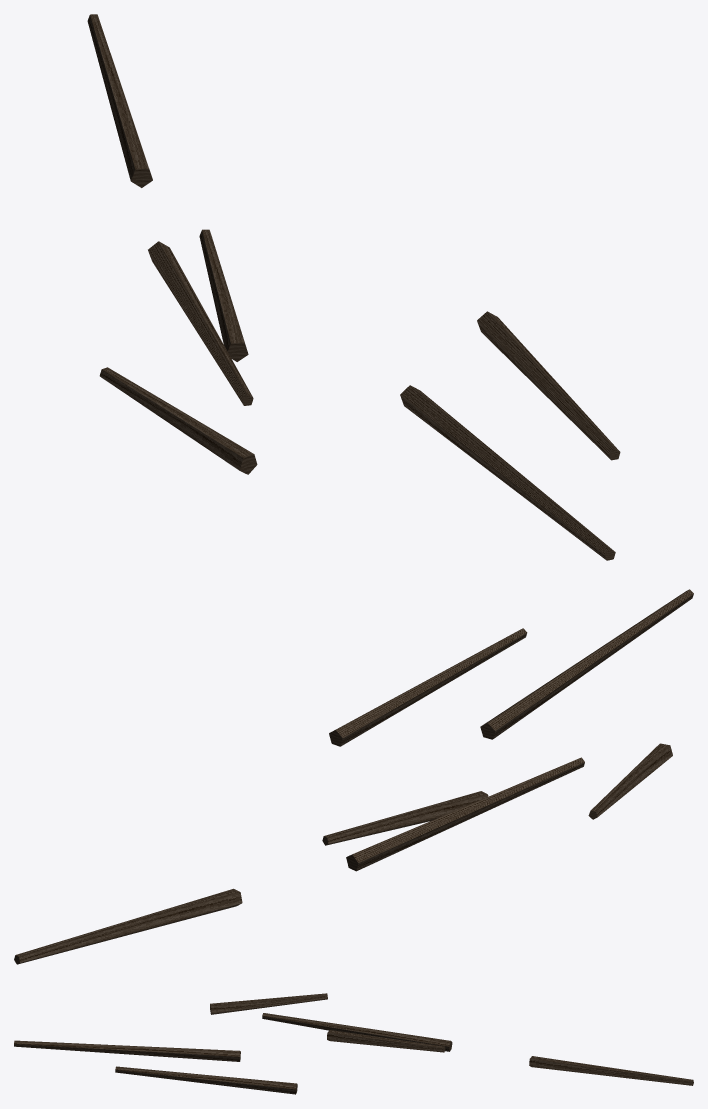
Rendered from env_ground_10_twigs_sparse.glb.
3 renders of one model, top to bottom at view 1: azimuth 30°, elevation 25°; view 2: azimuth 150°, elevation 25°; view 3: azimuth 270°, elevation 25°, orthographic. The views are drawn at different scales.
Parts seen in each view (by area): view 1: solid; view 2: solid; view 3: solid.
Boxes of the visible parts, box(x1,y1,x2,y2) form: solid: box(87, 14, 620, 560); solid: box(14, 589, 693, 964); solid: box(14, 993, 693, 1094).
Bounding box in the file's own units: 0.3925 × 0.03 × 1.26.
Materials: 1 (1 with a texture image).
